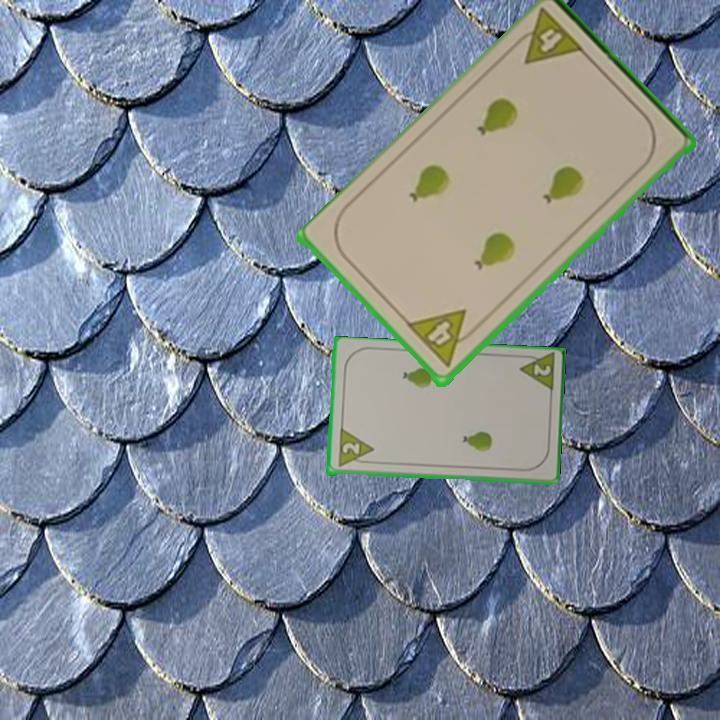2p: (516, 351, 557, 396), (334, 427, 376, 470)
4p: (506, 6, 589, 69), (404, 306, 482, 371)
